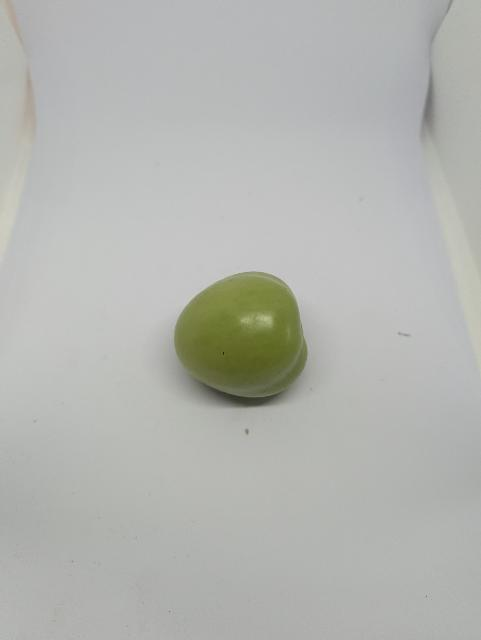green: (163, 264, 327, 416)
